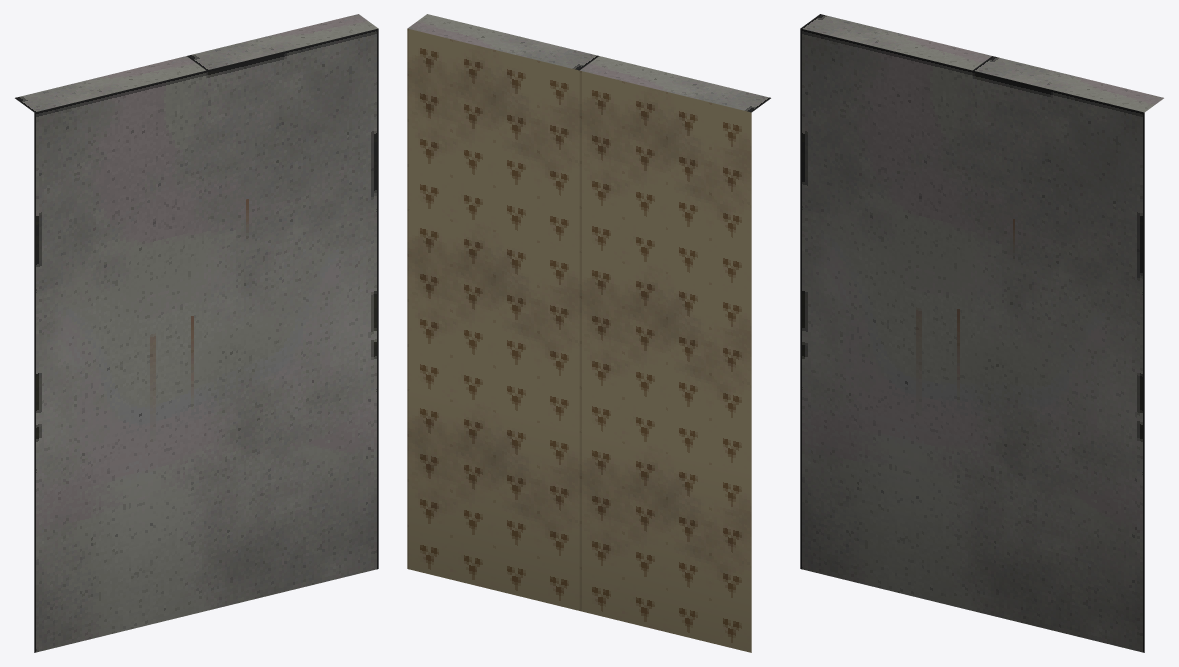
Rendered from wall_panel.glb.
3 views of the same model, side by side, from view 1: azimuth 30°, elevation 25°; view 2: azimuth 150°, elevation 25°; view 3: azimuth 330°, elevation 25° (orthographic).
Visible parts, largest first — view 1: wall_panel; view 2: wall_panel; view 3: wall_panel.
Boxes of the visible parts, x1,y1,x2,y2 form: wall_panel: (15, 14, 378, 652); wall_panel: (407, 14, 770, 652); wall_panel: (800, 14, 1163, 652).
Size of the model in its own units: 2 by 3 by 0.2.
Materials: 1 (1 with a texture image).
